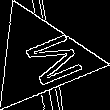M_SW: (5, 27, 77, 90)
